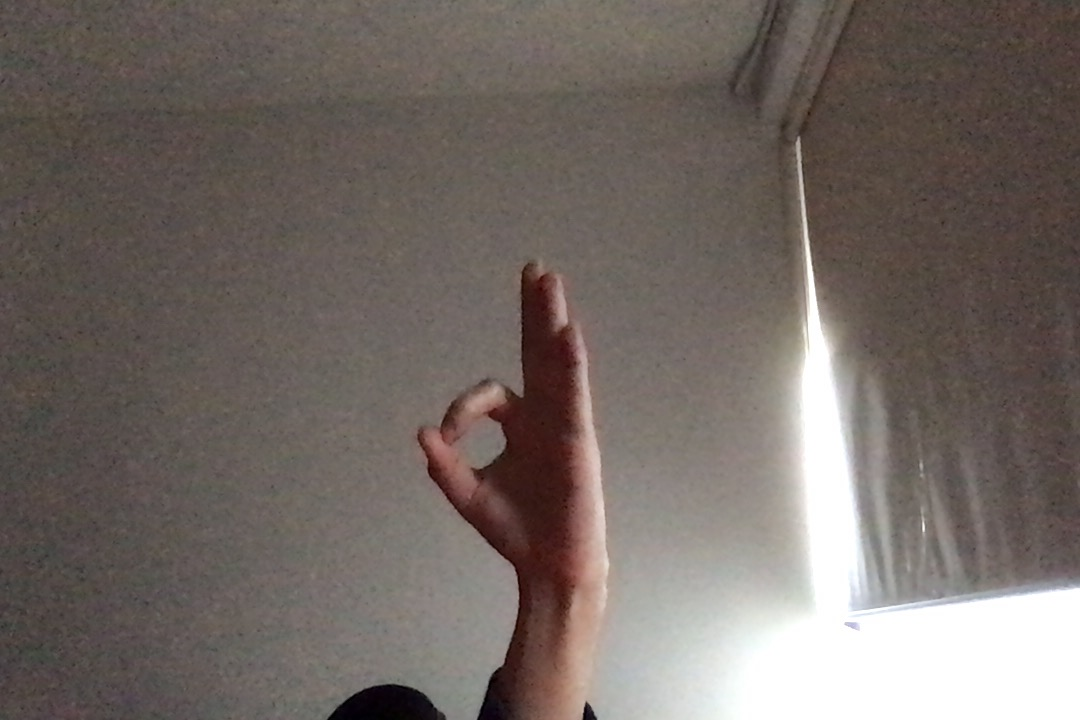oksign: (413, 251, 619, 583)
